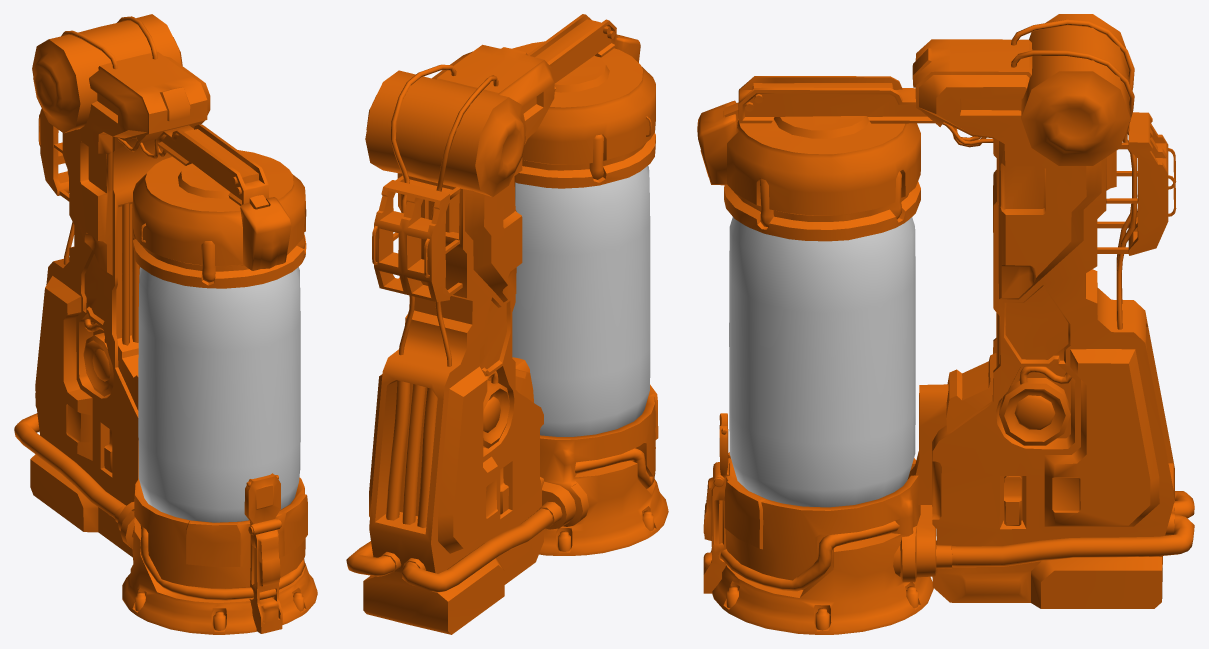
File: capsula de hibernacion.fbx
3 renders of one model, left to right at view 1: azimuth 30°, elevation 25°; view 2: azimuth 150°, elevation 25°; view 3: azimuth 270°, elevation 25°, orthographic. The views are drawn at different scales.
Parts seen in each view (by area): view 1: Capsule, Capsule.001; view 2: Capsule, Capsule.001; view 3: Capsule, Capsule.001.
Boxes of the visible parts, left/top/right/bottom form: Capsule: left=14, top=14, right=317, bottom=634; Capsule.001: left=138, top=267, right=300, bottom=522; Capsule: left=346, top=14, right=668, bottom=634; Capsule.001: left=512, top=165, right=650, bottom=436; Capsule: left=697, top=14, right=1194, bottom=634; Capsule.001: left=729, top=217, right=915, bottom=507.
Bounding box in the file's own units: 1812 × 4958 × 4042.
